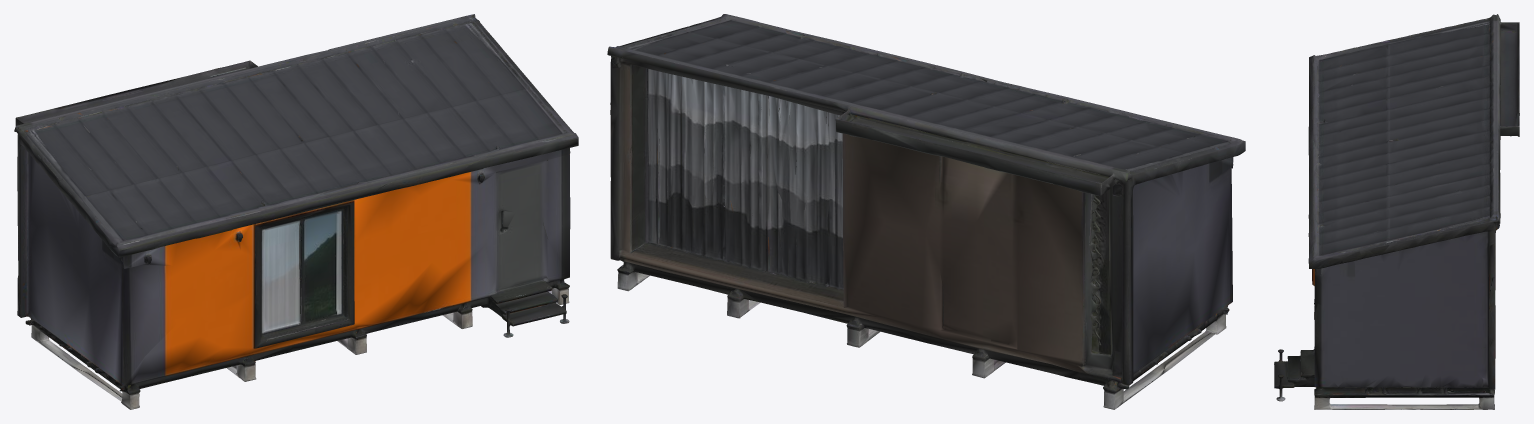
The picture shows the model from 3 angles, left to right: view 1: azimuth 30°, elevation 25°; view 2: azimuth 150°, elevation 25°; view 3: azimuth 270°, elevation 25°; orthographic projection. The views are drawn at different scales.
Parts seen in each view (by area): view 1: Mesh_0; view 2: Mesh_0; view 3: Mesh_0.
Boxes of the visible parts, left/top/right/bottom form: Mesh_0: left=14, top=14, right=578, bottom=409; Mesh_0: left=607, top=14, right=1245, bottom=409; Mesh_0: left=1274, top=14, right=1519, bottom=409.
Bounding box in the file's own units: 1.9 × 0.8454 × 0.9652.
1 material, 1 textured.
